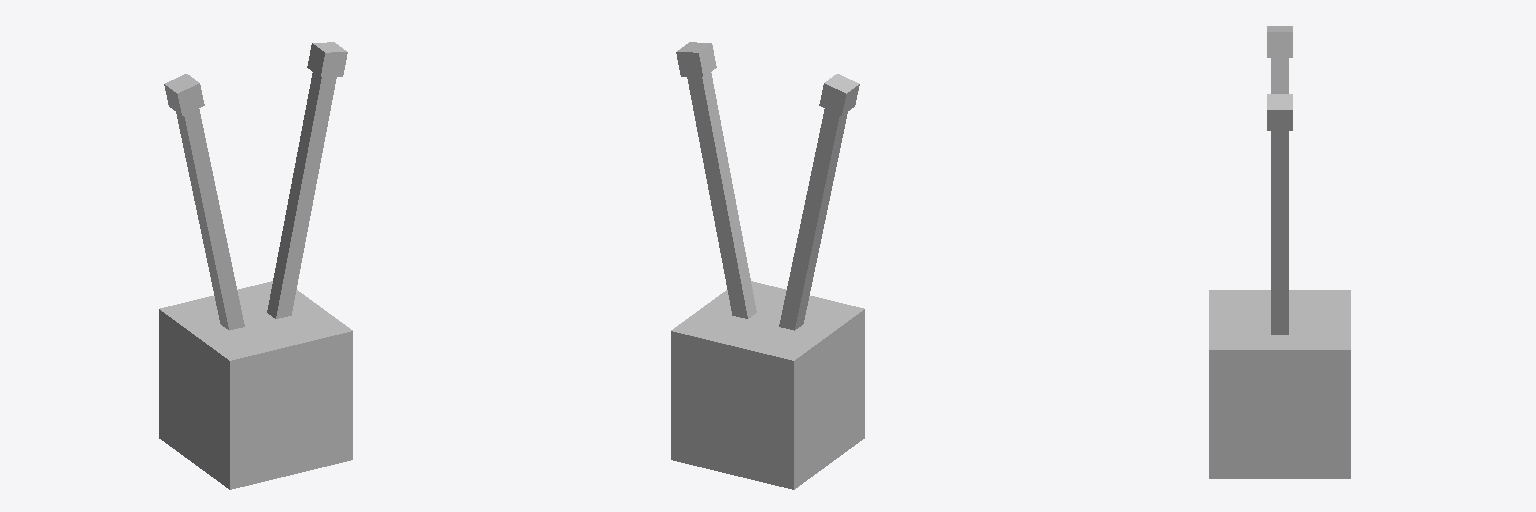
File: jacobs_huge.obj
The picture shows the model from 3 angles: view 1: azimuth 30°, elevation 25°; view 2: azimuth 150°, elevation 25°; view 3: azimuth 270°, elevation 25°; orthographic projection.
Parts seen in each view (by area): view 1: Cube.009_Cube.017, Cube.010_Cube.018, Cube.012_Cube.020, Cube.013_Cube.021, Cube.011_Cube.019; view 2: Cube.009_Cube.017, Cube.010_Cube.018, Cube.012_Cube.020, Cube.013_Cube.021, Cube.011_Cube.019; view 3: Cube.009_Cube.017, Cube.010_Cube.018, Cube.011_Cube.019, Cube.013_Cube.021, Cube.012_Cube.020.
Boxes of the visible parts, box(x1,y1,x2,y2) form: Cube.009_Cube.017: box(159, 281, 352, 489); Cube.010_Cube.018: box(267, 72, 336, 318); Cube.012_Cube.020: box(176, 109, 244, 330); Cube.013_Cube.021: box(164, 74, 204, 115); Cube.011_Cube.019: box(307, 42, 347, 76); Cube.009_Cube.017: box(671, 281, 864, 489); Cube.010_Cube.018: box(687, 72, 756, 318); Cube.012_Cube.020: box(779, 109, 847, 330); Cube.013_Cube.021: box(819, 74, 859, 115); Cube.011_Cube.019: box(676, 42, 716, 76); Cube.009_Cube.017: box(1209, 290, 1350, 478); Cube.010_Cube.018: box(1271, 131, 1288, 334); Cube.011_Cube.019: box(1267, 94, 1292, 130); Cube.013_Cube.021: box(1267, 26, 1292, 57); Cube.012_Cube.020: box(1271, 58, 1288, 93).
Bounding box in the file's own units: 1.38 × 2.99 × 1.